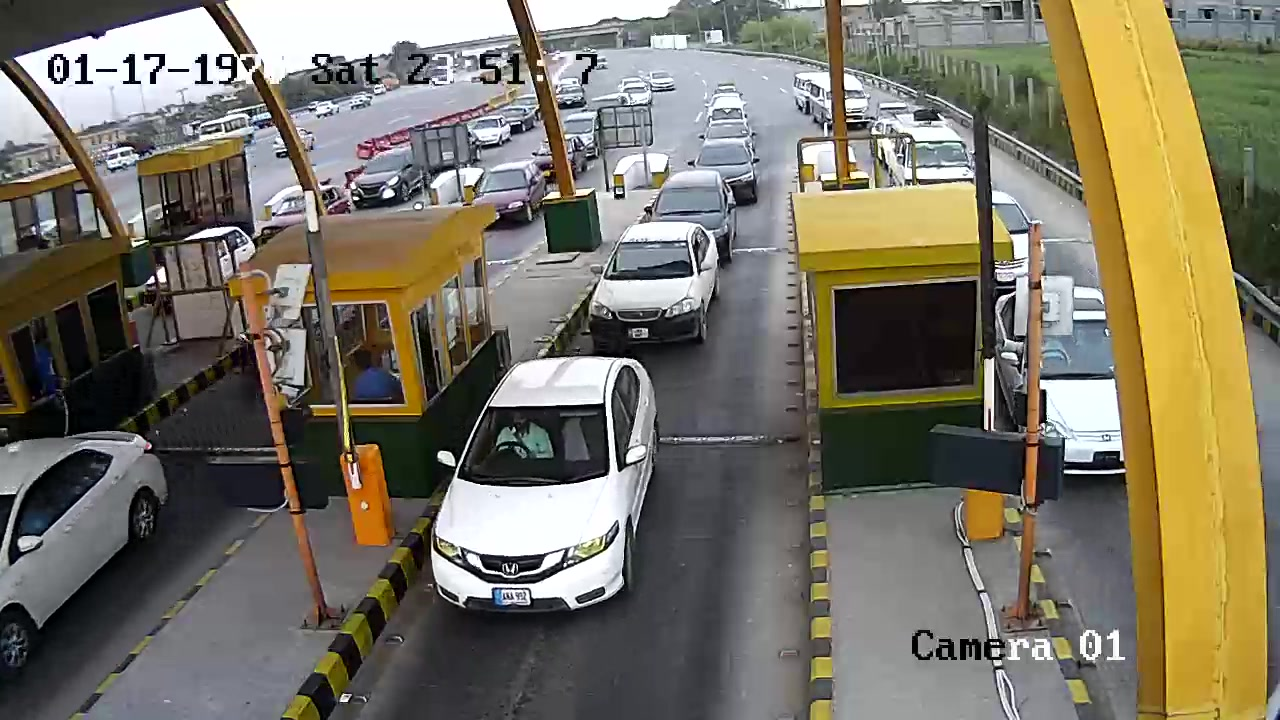F1: (412, 352, 669, 636)
